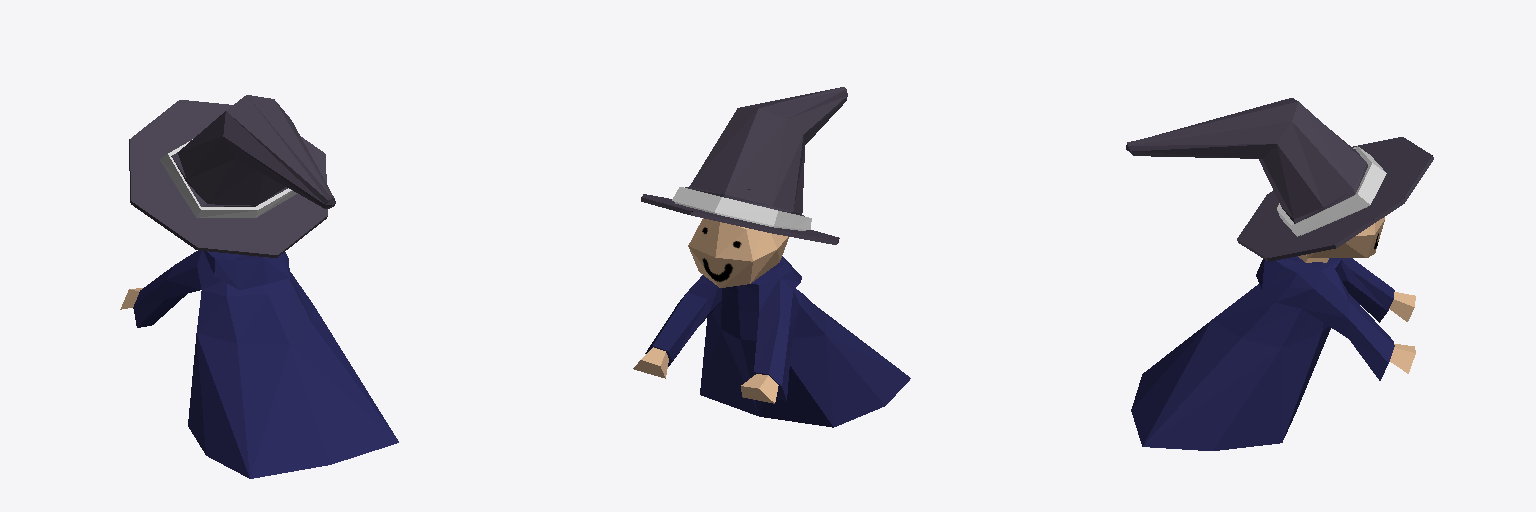
3 views of the same model, side by side, from view 1: azimuth 30°, elevation 25°; view 2: azimuth 150°, elevation 25°; view 3: azimuth 270°, elevation 25° (orthographic).
Visible parts, largest first — view 1: wizardRobe_GEO wizard_GRP, wizard_GRP wizardHat_GEO; view 2: wizardRobe_GEO wizard_GRP, wizard_GRP wizardHat_GEO, wizard_GRP wizardFace_GEO; view 3: wizardRobe_GEO wizard_GRP, wizard_GRP wizardHat_GEO, wizard_GRP wizardFace_GEO.
Boxes of the visible parts, box(x1,y1,x2,y2) form: wizardRobe_GEO wizard_GRP: box(120, 250, 398, 478); wizard_GRP wizardHat_GEO: box(129, 95, 335, 257); wizardRobe_GEO wizard_GRP: box(633, 256, 910, 427); wizard_GRP wizardHat_GEO: box(641, 87, 847, 244); wizard_GRP wizardFace_GEO: box(688, 218, 788, 287); wizardRobe_GEO wizard_GRP: box(1131, 256, 1415, 450); wizard_GRP wizardHat_GEO: box(1126, 98, 1433, 261); wizard_GRP wizardFace_GEO: box(1298, 217, 1384, 262).
Size of the model in its own units: 2.25 by 3.41 by 3.09.
1 materials, 1 textured.